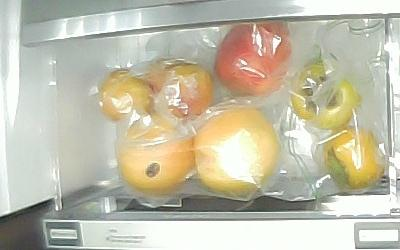apple_vinyl: (213, 21, 292, 98)
grapefruit_vinyl: (194, 106, 277, 195), (115, 114, 193, 195)
persimmon_vinyl: (291, 63, 356, 130), (324, 126, 383, 190)
prune_vinyl: (161, 64, 211, 120), (99, 69, 152, 120)
